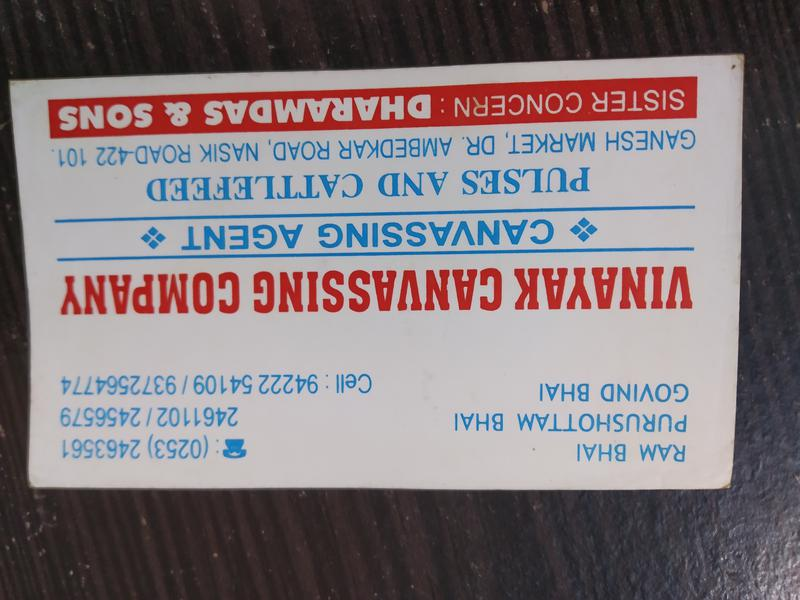card: (8, 52, 752, 495)
